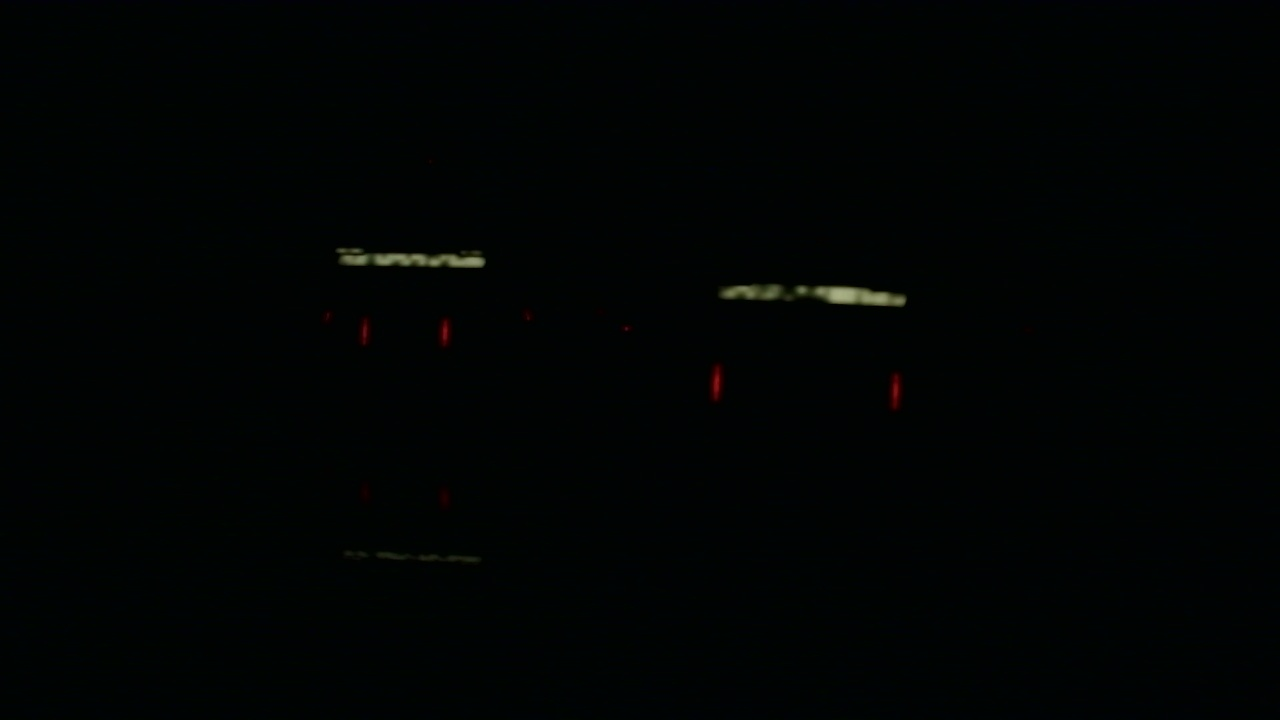lamp: (891, 365, 902, 411), (710, 365, 721, 406), (441, 316, 448, 341), (362, 316, 367, 346)
pair1: (362, 317, 448, 346)
pair2: (711, 366, 902, 416)
